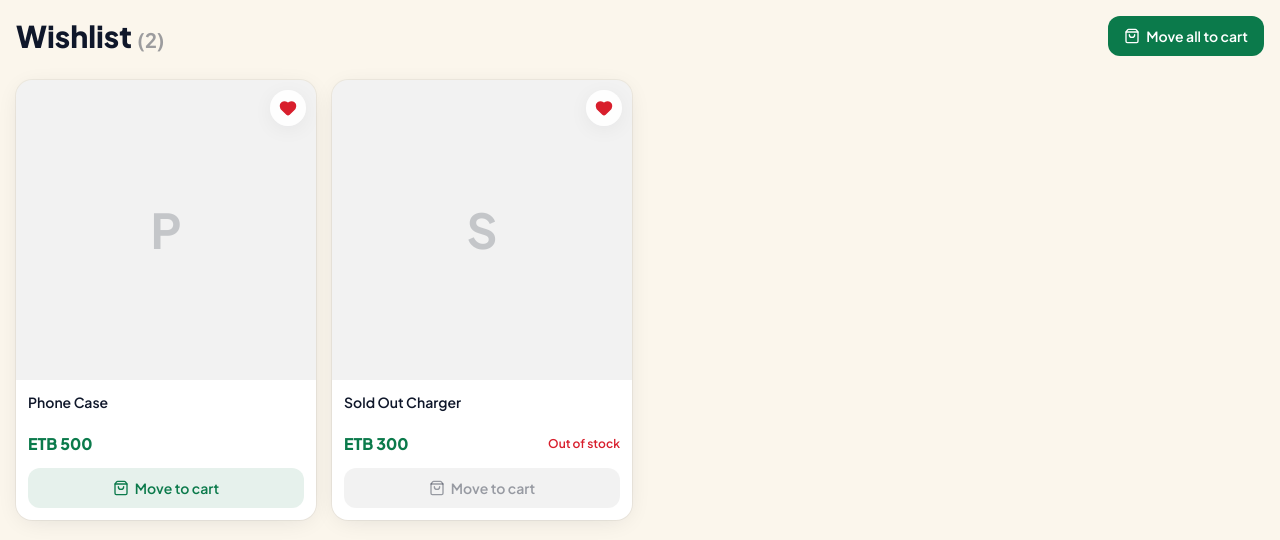
it: Wishlist › removes an item via the heart button
Expected: the heading "Phone Case" is shown, [28,393,108,411]
Click the 1st button named "Remove from wishlist": [288, 108] box [270,90,306,126]
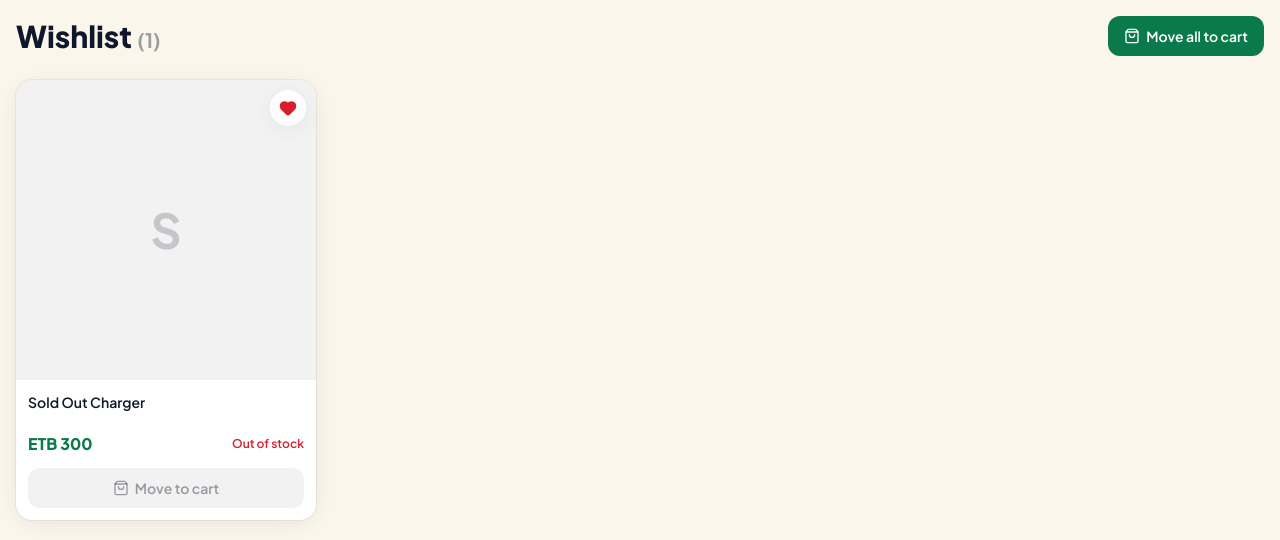
Expected: the heading "Sold Out Charger" is shown, [28,393,145,411]
Now the heading "Phone Case" is gone
